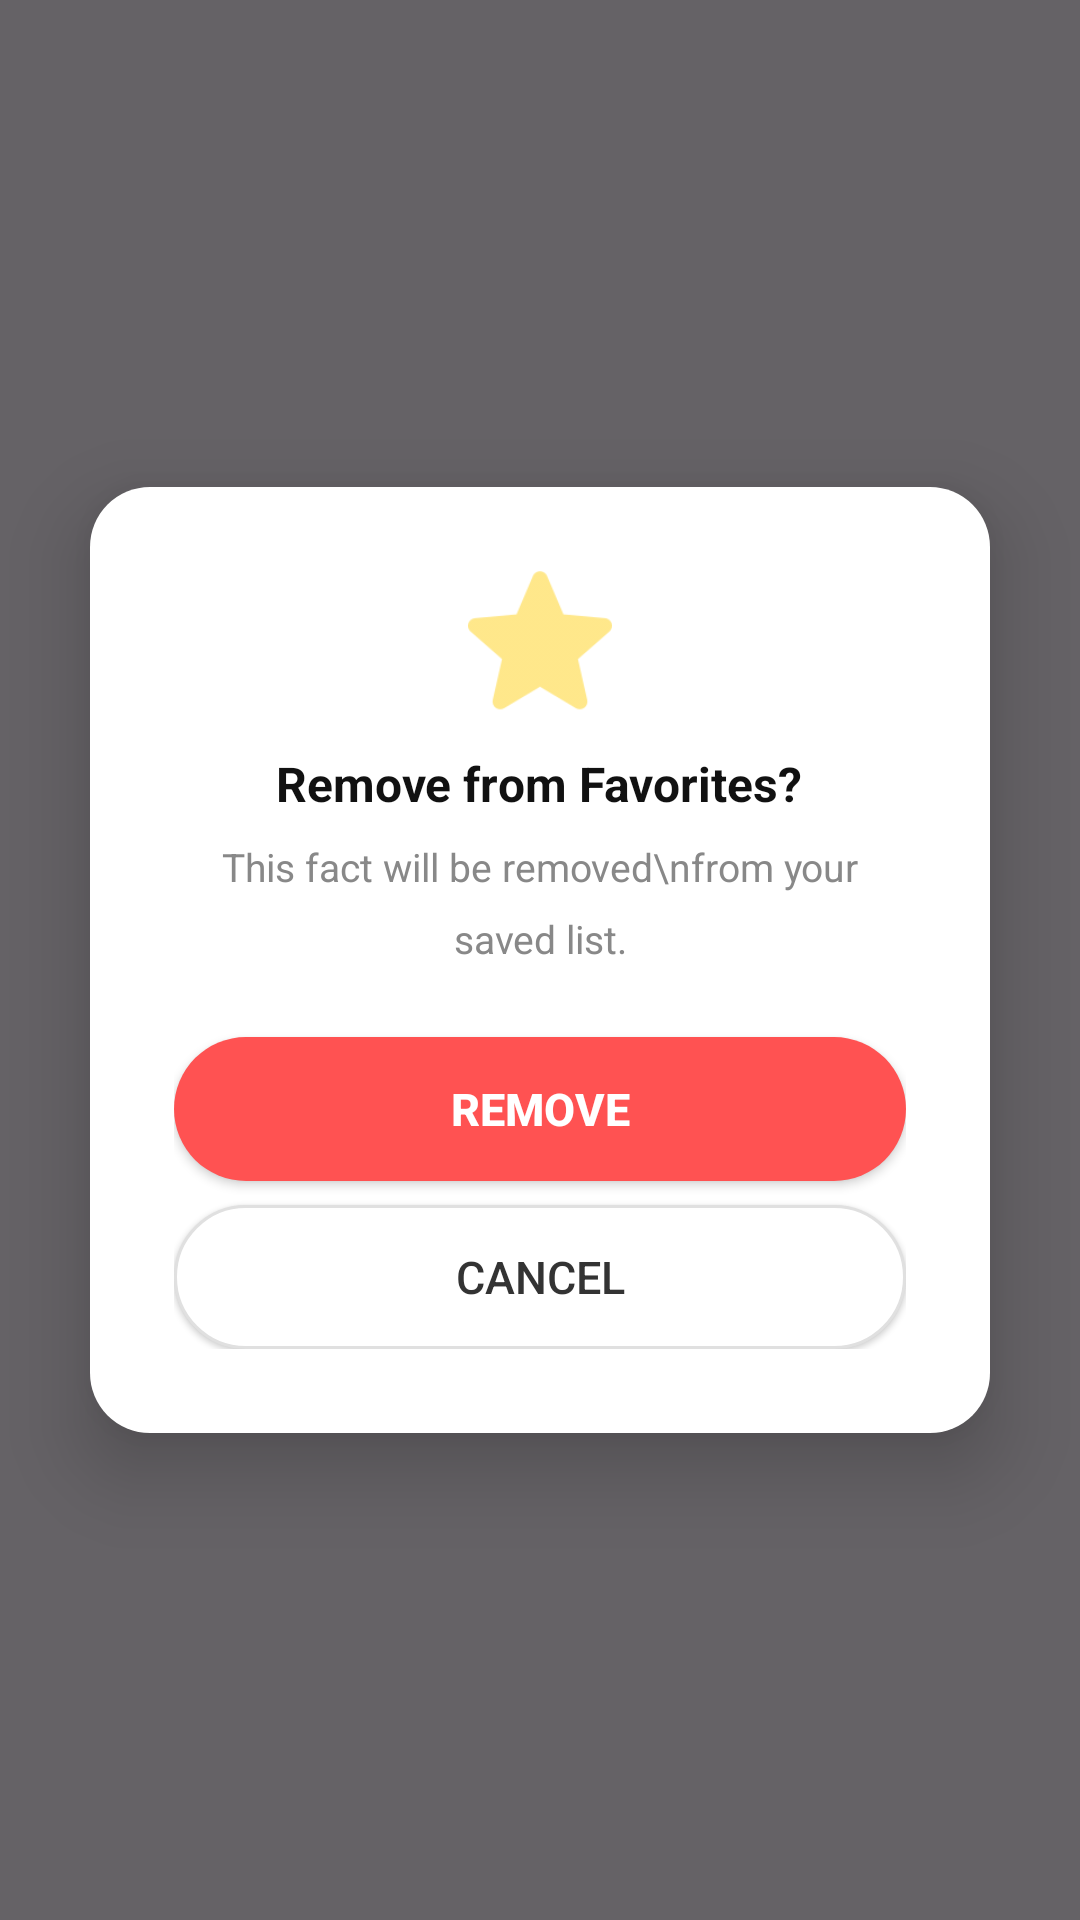

Locate icon controls on the screen. Image size 1080px x 1920px, boxes as (x1,y1,x2,y2).
star: (468,571,612,710)
